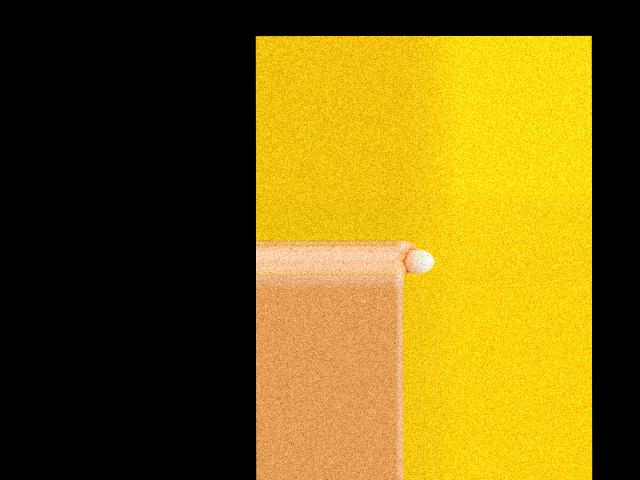egg: (403, 249, 434, 272)
